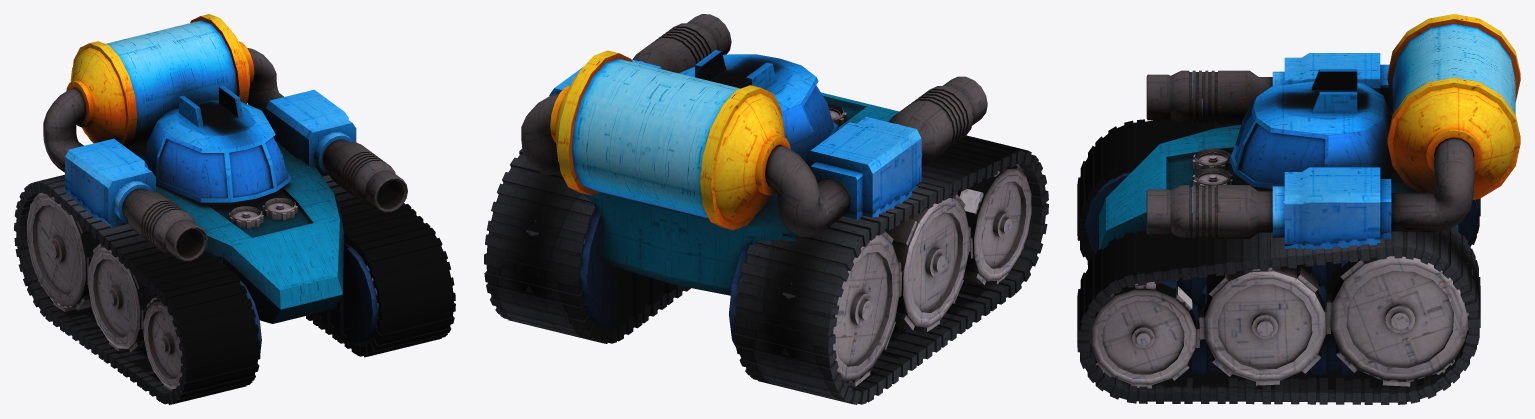
Rendered from PlayerB14.obj.
3 renders of one model, left to right at view 1: azimuth 30°, elevation 25°; view 2: azimuth 150°, elevation 25°; view 3: azimuth 270°, elevation 25°, orthographic. The views are drawn at different scales.
Parts seen in each view (by area): view 1: Object001, Box042, Object004, Object003, Object002; view 2: Object001, Box042, Object003, Object004, Object002; view 3: Object001, Box042, Object004, Object003, Object002.
Boxes of the visible parts, x1=… form: Object001: x1=43, y1=14, x2=407, y2=356; Box042: x1=14, y1=174, x2=455, y2=404; Object004: x1=27, y1=192, x2=99, y2=311; Object003: x1=87, y1=243, x2=154, y2=352; Object002: x1=143, y1=297, x2=182, y2=391; Object001: x1=521, y1=14, x2=987, y2=356; Box042: x1=484, y1=135, x2=1048, y2=404; Object003: x1=889, y1=194, x2=970, y2=332; Object004: x1=833, y1=231, x2=901, y2=386; Object002: x1=959, y1=164, x2=1031, y2=284; Object001: x1=1085, y1=14, x2=1520, y2=374; Box042: x1=1077, y1=119, x2=1480, y2=404; Object004: x1=1325, y1=256, x2=1468, y2=386; Object003: x1=1199, y1=266, x2=1330, y2=385; Object002: x1=1090, y1=281, x2=1200, y2=388.
Bounding box in the file's own units: 121 × 102 × 147.
2 materials, 2 textured.
